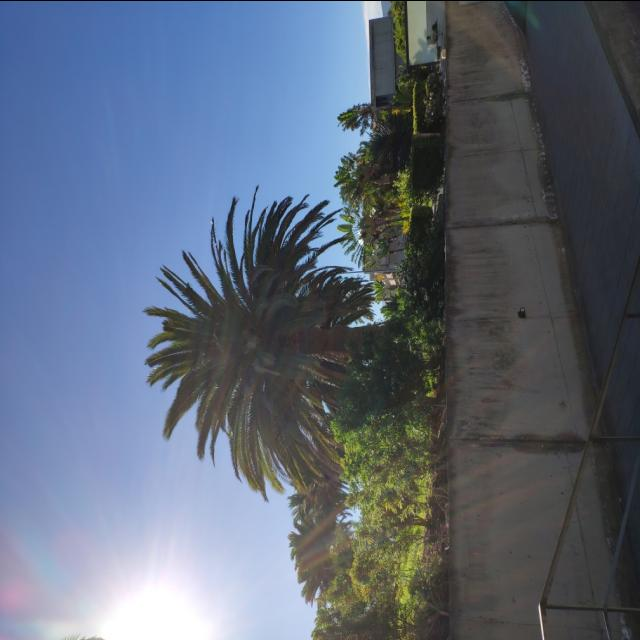Palm-Trees: (142, 196, 418, 488)
